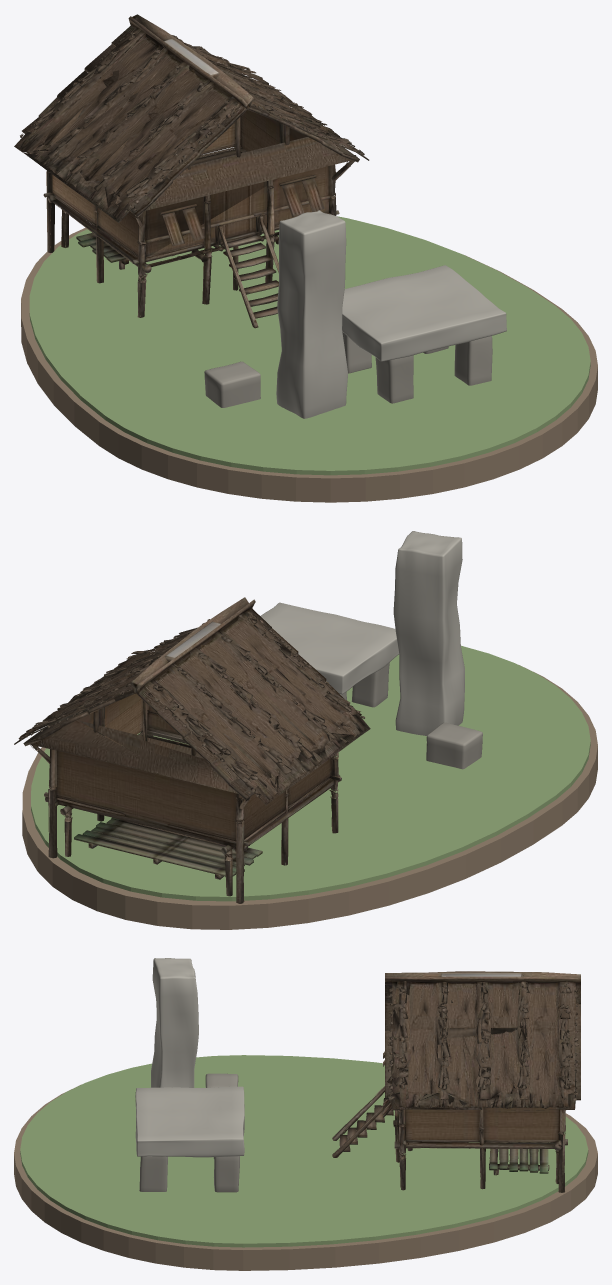
Rendered from sumut.glb.
3 renders of one model, top to bottom at view 1: azimuth 30°, elevation 25°; view 2: azimuth 150°, elevation 25°; view 3: azimuth 270°, elevation 25°, orthographic. The views are drawn at different scales.
Parts seen in each view (by area): view 1: GEO-rumput, GEO-rumah-latar, GEO-alas, GEO-menhir, GEO-daro-lempeng, GEO-batu-kecil, GEO-daro-kaki-1, GEO-daro-kaki-0, GEO-daro-kaki-2; view 2: GEO-rumah-latar, GEO-rumput, GEO-alas, GEO-menhir, GEO-daro-lempeng, GEO-batu-kecil, GEO-daro-kaki-0; view 3: GEO-rumput, GEO-rumah-latar, GEO-alas, GEO-daro-lempeng, GEO-menhir, GEO-daro-kaki-1, GEO-daro-kaki-3, GEO-batu-kecil.
Boxes of the visible parts, bbox=[...] form: GEO-rumput: bbox=[29, 216, 590, 475]; GEO-rumah-latar: bbox=[14, 14, 369, 328]; GEO-alas: bbox=[21, 227, 597, 502]; GEO-menhir: bbox=[276, 210, 348, 418]; GEO-daro-lempeng: bbox=[342, 265, 506, 361]; GEO-batu-kecil: bbox=[204, 361, 260, 407]; GEO-daro-kaki-1: bbox=[454, 336, 492, 385]; GEO-daro-kaki-0: bbox=[375, 355, 413, 403]; GEO-daro-kaki-2: bbox=[342, 332, 371, 373]; GEO-rumah-latar: bbox=[14, 597, 370, 903]; GEO-rumput: bbox=[31, 645, 590, 901]; GEO-alas: bbox=[22, 665, 597, 929]; GEO-menhir: bbox=[393, 531, 464, 735]; GEO-daro-lempeng: bbox=[260, 602, 399, 694]; GEO-batu-kecil: bbox=[426, 722, 482, 769]; GEO-daro-kaki-0: bbox=[351, 662, 389, 707]; GEO-rumput: bbox=[20, 1055, 588, 1247]; GEO-rumah-latar: bbox=[332, 971, 580, 1192]; GEO-alas: bbox=[14, 1084, 597, 1270]; GEO-daro-lempeng: bbox=[135, 1086, 244, 1157]; GEO-menhir: bbox=[151, 958, 198, 1087]; GEO-daro-kaki-1: bbox=[139, 1156, 167, 1191]; GEO-daro-kaki-3: bbox=[214, 1156, 239, 1192]; GEO-batu-kecil: bbox=[205, 1073, 238, 1087].
Bounding box in the file's own units: 4.4 × 2.12 × 5.6.
Materials: 5 (1 with a texture image).
